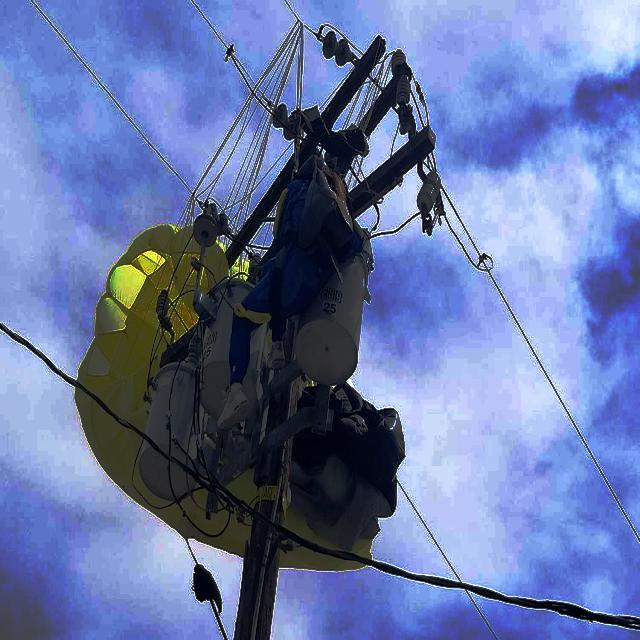obstruction: (75, 221, 404, 637)
poles: (75, 36, 433, 639)
wires: (431, 180, 640, 545), (361, 481, 640, 631), (28, 0, 216, 206), (189, 0, 271, 112), (0, 323, 69, 379), (471, 599, 499, 639), (378, 211, 419, 237), (411, 79, 429, 125), (282, 0, 303, 35)
